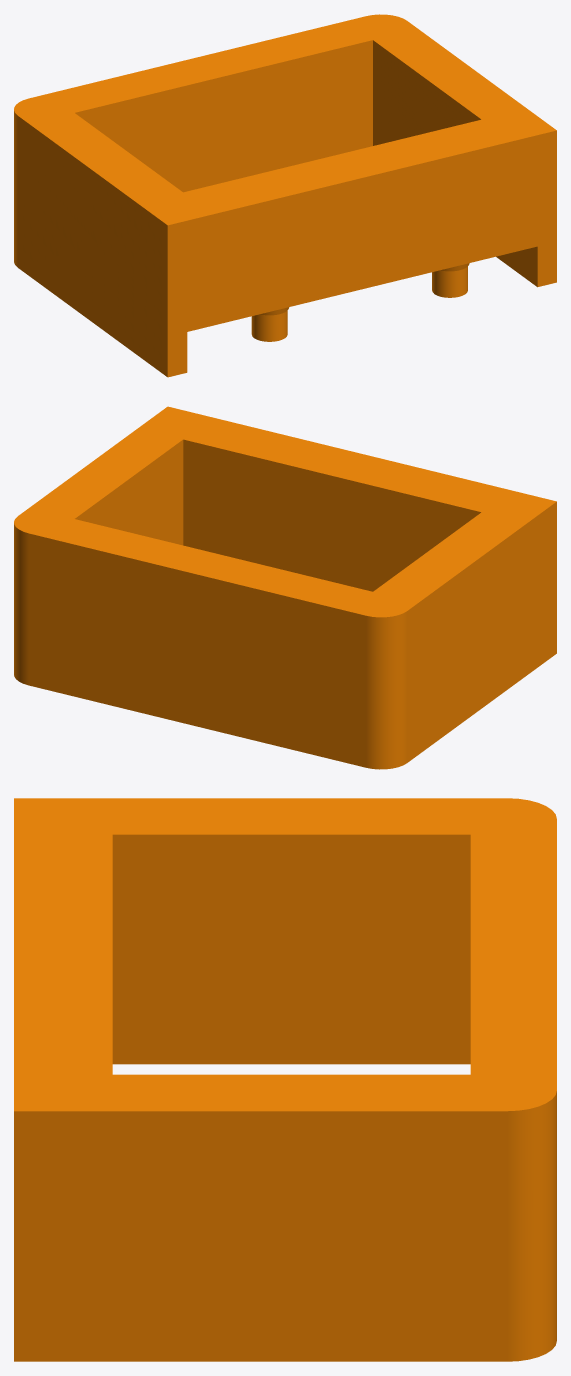
The model's file is suporteencoder.dae.
The picture shows the model from 3 angles, top to bottom: view 1: azimuth 30°, elevation 25°; view 2: azimuth 150°, elevation 25°; view 3: azimuth 270°, elevation 25°; orthographic projection. The views are drawn at different scales.
Parts seen in each view (by area): view 1: node_6df816d6_af8a_436d_b093_051656155fc6_mesh0; view 2: node_6df816d6_af8a_436d_b093_051656155fc6_mesh0; view 3: node_6df816d6_af8a_436d_b093_051656155fc6_mesh0.
Part boxes in pixels (x1,y1,x2,y2): node_6df816d6_af8a_436d_b093_051656155fc6_mesh0: [14, 14, 556, 377]; node_6df816d6_af8a_436d_b093_051656155fc6_mesh0: [14, 406, 556, 769]; node_6df816d6_af8a_436d_b093_051656155fc6_mesh0: [14, 798, 556, 1361].
Size of the model in its own units: 0.03 by 0.0112 by 0.022.
